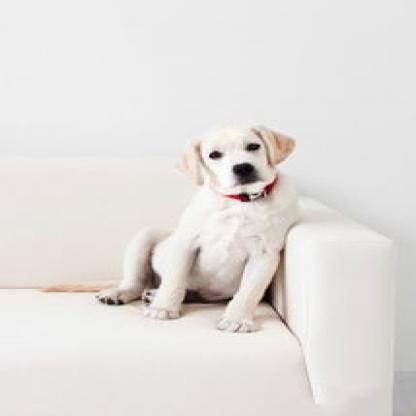dog: (96, 118, 298, 332)
